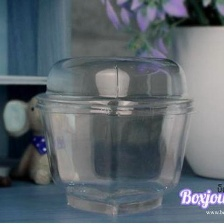glass: (31, 51, 196, 224)
